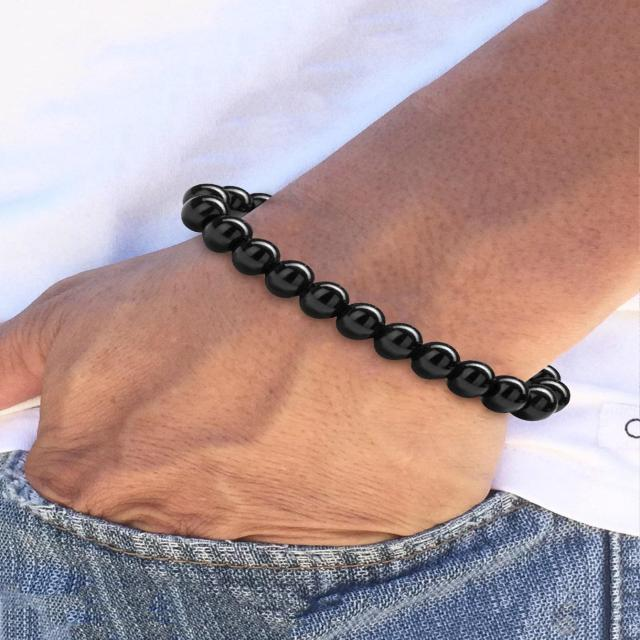bracelet: (86, 81, 640, 478)
